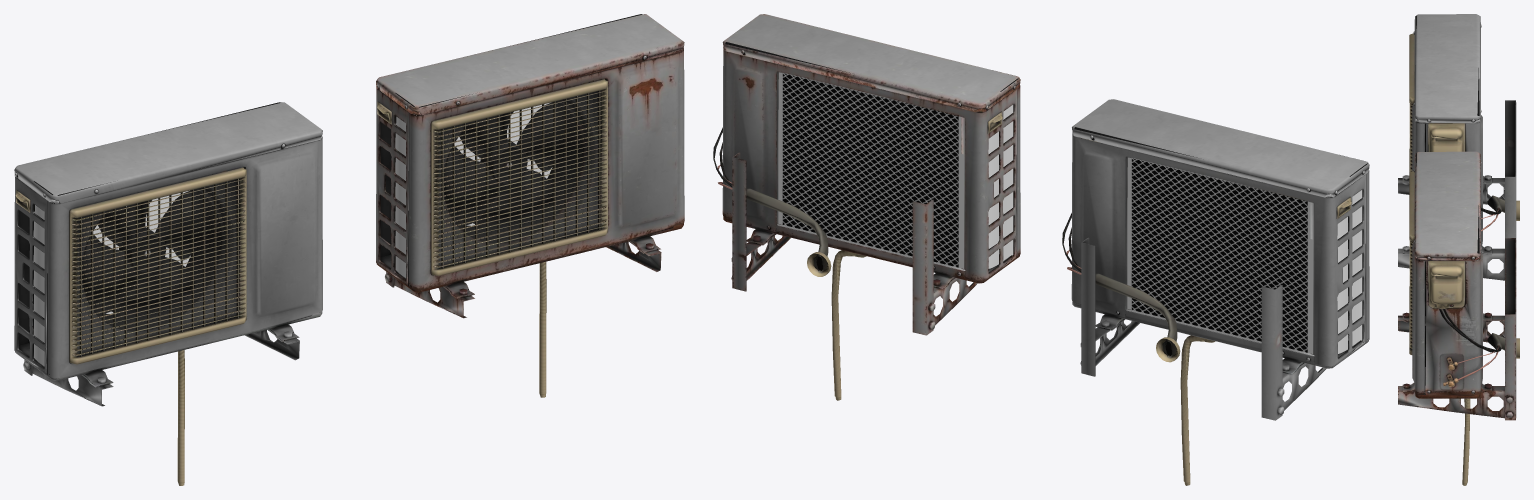
File: exterior_aircon_unit.glb
The picture shows the model from 3 angles, left to right: view 1: azimuth 30°, elevation 25°; view 2: azimuth 150°, elevation 25°; view 3: azimuth 270°, elevation 25°; orthographic projection. The views are drawn at different scales.
Parts seen in each view (by area): view 1: exterior_aircon_unit_rusted, exterior_aircon_unit; view 2: exterior_aircon_unit_rusted, exterior_aircon_unit; view 3: exterior_aircon_unit_rusted, exterior_aircon_unit.
Part boxes in pixels (x1,y1,x2,y2): exterior_aircon_unit_rusted: (376,14,684,397); exterior_aircon_unit: (14,102,322,485); exterior_aircon_unit_rusted: (713,14,1020,400); exterior_aircon_unit: (1062,99,1369,485); exterior_aircon_unit_rusted: (1398,151,1519,485); exterior_aircon_unit: (1398,14,1519,280).
Bounding box in the file's own units: 1.8 × 0.9279 × 0.3742.
4 materials, 4 textured.
